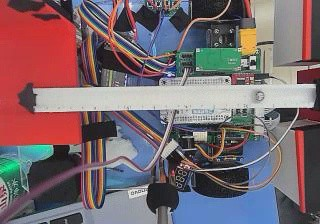ironball: (253, 92, 265, 102)
